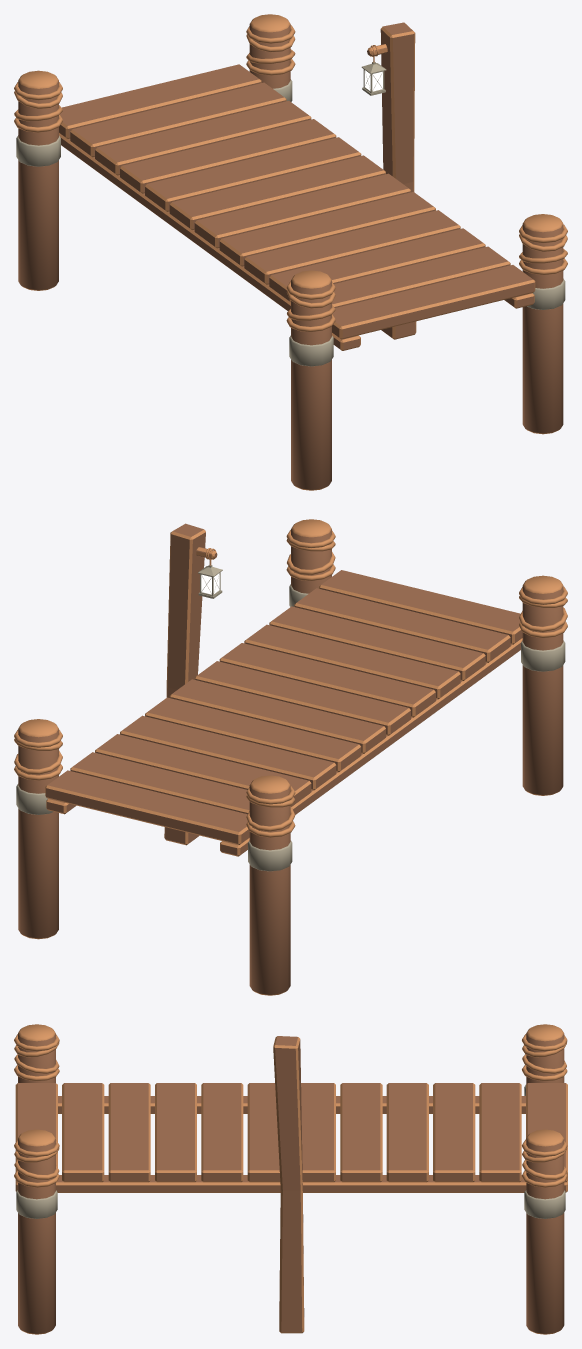
The model's file is Dock_lantern.fbx.
3 views of the same model, one above another, from view 1: azimuth 30°, elevation 25°; view 2: azimuth 150°, elevation 25°; view 3: azimuth 270°, elevation 25° (orthographic). The views are drawn at different scales.
Visible parts, largest first — view 1: Dock Lantern; view 2: Dock Lantern; view 3: Dock Lantern.
Part boxes in pixels (<box>): Dock Lantern: <box>14,14,567,490</box>; Dock Lantern: <box>14,519,567,995</box>; Dock Lantern: <box>14,1024,567,1334</box>.
Bounding box in the file's own units: 280 × 300 × 526.
